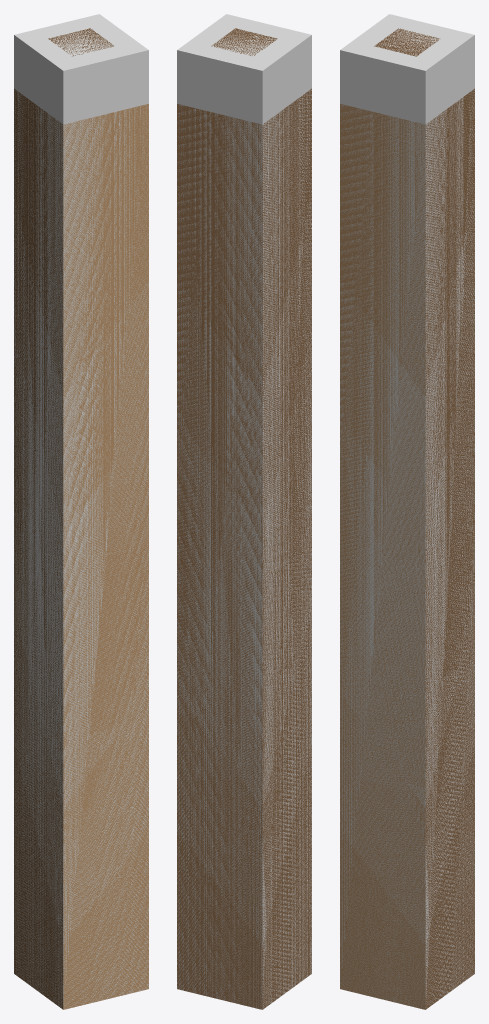
Rendered from FMS_Fence_Post_End.fbx.
The picture shows the model from 3 angles, left to right: view 1: azimuth 30°, elevation 25°; view 2: azimuth 150°, elevation 25°; view 3: azimuth 330°, elevation 25°; orthographic projection.
Parts seen in each view (by area): view 1: FMS_Fence_Post_End_LOD0, FMS_Fence_Post_End_Col; view 2: FMS_Fence_Post_End_LOD0, FMS_Fence_Post_End_Col; view 3: FMS_Fence_Post_End_LOD0, FMS_Fence_Post_End_Col.
Part boxes in pixels (x1,y1,x2,y2): FMS_Fence_Post_End_LOD0: (14, 28, 148, 1009); FMS_Fence_Post_End_Col: (14, 14, 148, 1009); FMS_Fence_Post_End_LOD0: (177, 28, 311, 1009); FMS_Fence_Post_End_Col: (177, 14, 311, 1009); FMS_Fence_Post_End_LOD0: (340, 28, 474, 1009); FMS_Fence_Post_End_Col: (340, 14, 474, 1009).
Size of what is drawn, in the model's own units: 0.1 by 1.05 by 0.1.
1 material, 1 textured.
